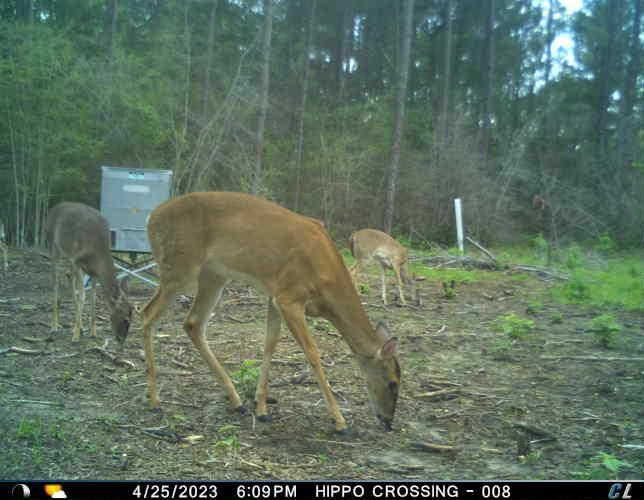Deer: (137, 187, 406, 441), (43, 199, 137, 349), (348, 225, 421, 309), (0, 212, 14, 274)
